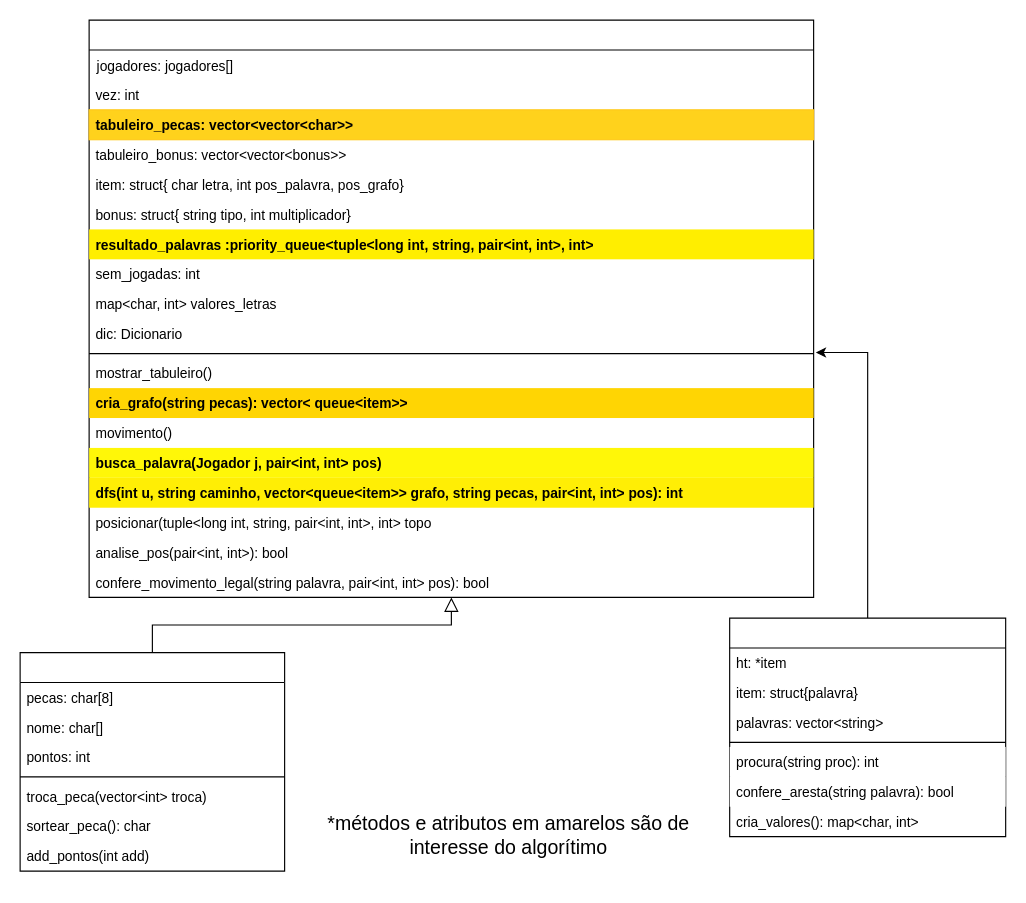
This 1026x903 diagram has some shape labels left out. Each missing label, with the box of its shape:
Dicionario: (729, 617, 1006, 837)
Jogador: (19, 651, 285, 871)
Jogo: (88, 19, 814, 597)
